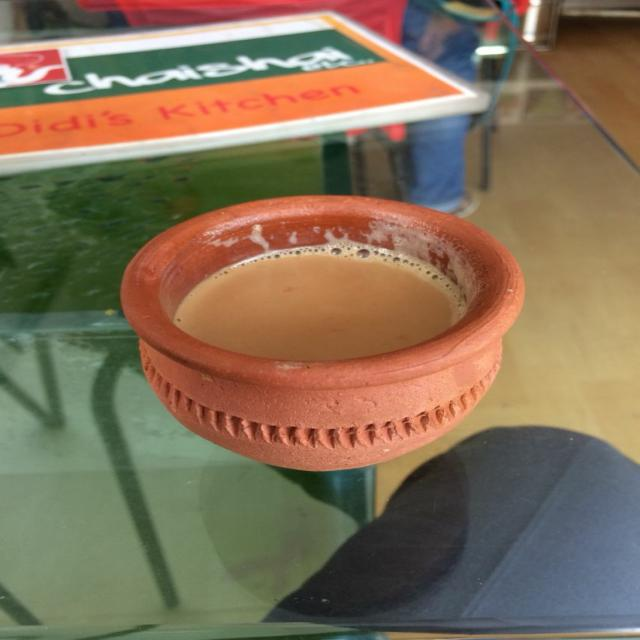Chai: (171, 242, 474, 376)
